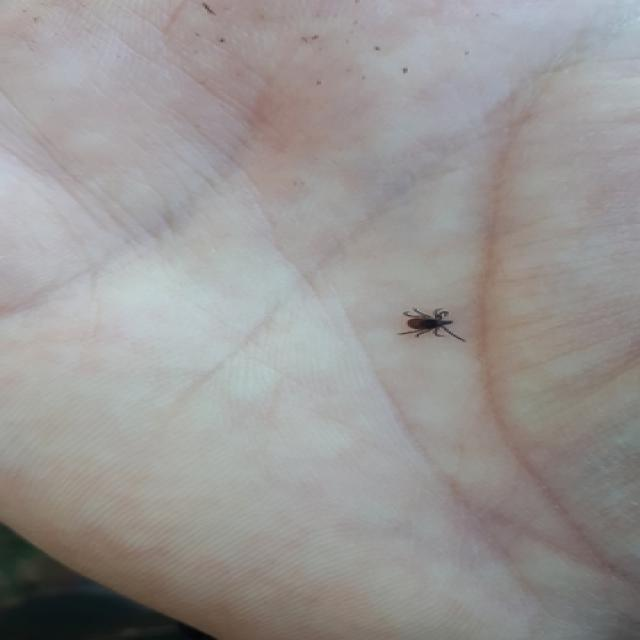Ixodes Ricinus-F: (396, 302, 469, 346)
